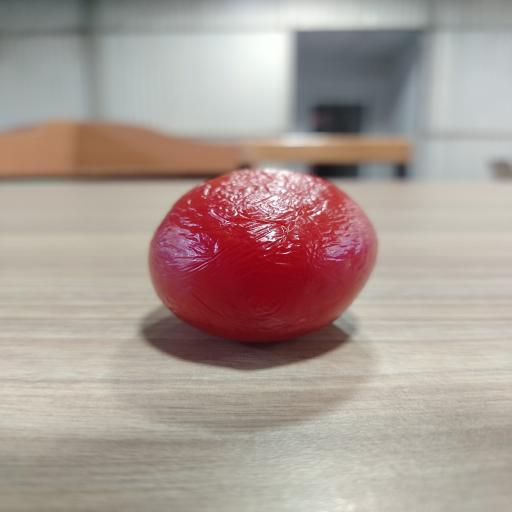spoiled: (149, 169, 376, 341)
